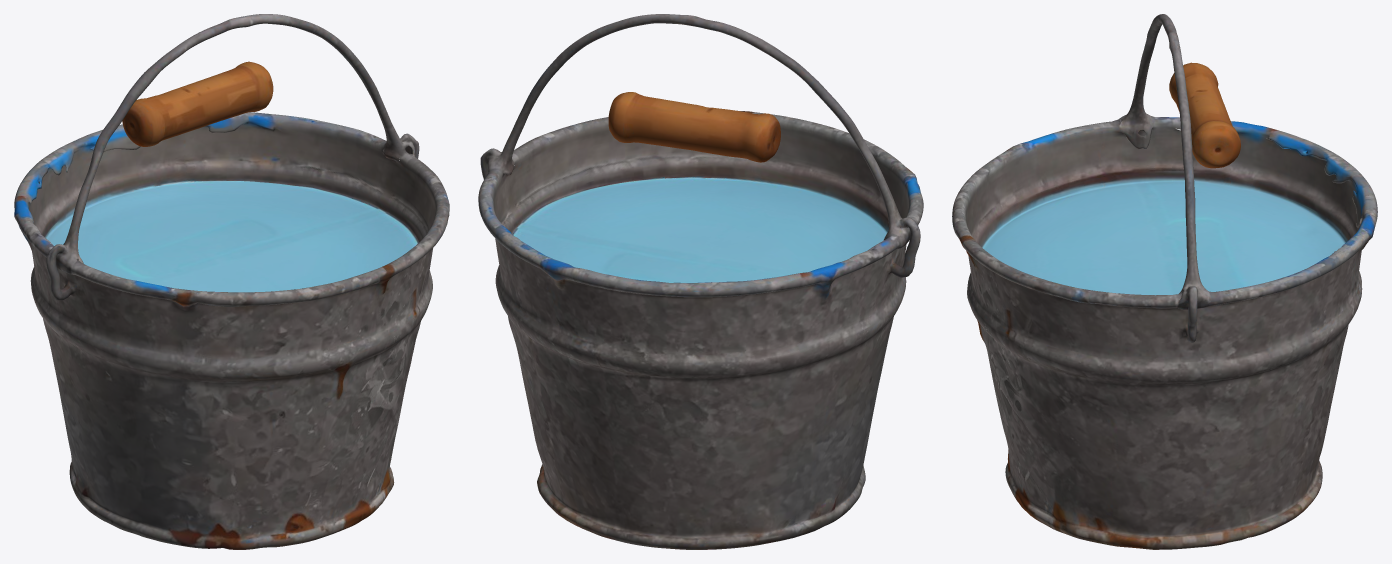
Rendered from g67_event_bucket.glb.
The picture shows the model from 3 angles, left to right: view 1: azimuth 30°, elevation 25°; view 2: azimuth 150°, elevation 25°; view 3: azimuth 270°, elevation 25°; orthographic projection. The views are drawn at different scales.
Parts seen in each view (by area): view 1: tripo_node_61ebe1ec; view 2: tripo_node_61ebe1ec; view 3: tripo_node_61ebe1ec.
Part boxes in pixels (x1,y1,x2,y2): tripo_node_61ebe1ec: [14, 14, 449, 549]; tripo_node_61ebe1ec: [478, 14, 923, 549]; tripo_node_61ebe1ec: [952, 14, 1377, 549].
Size of the model in its own units: 88.83 by 97.87 by 83.1.
Materials: 1 (1 with a texture image).
